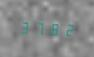eight: (46, 19, 59, 37)
seven: (32, 19, 45, 36)
three: (18, 18, 31, 36)
two: (60, 20, 73, 38)
